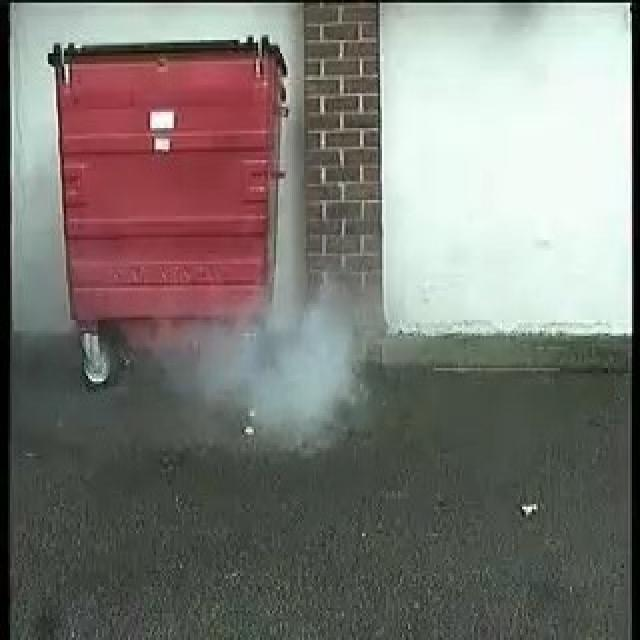smoke: (197, 299, 366, 438)
